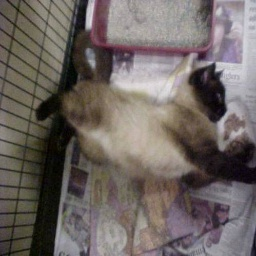cat: (49, 43, 256, 188)
